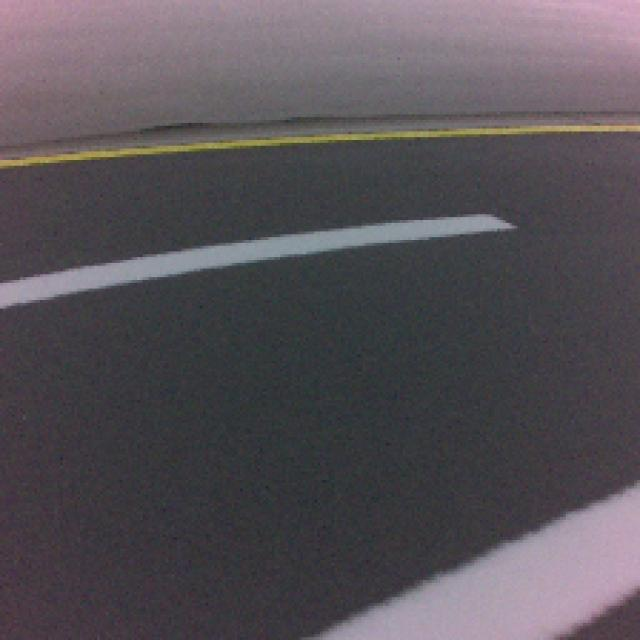Guard rail: (315, 484, 640, 640)
